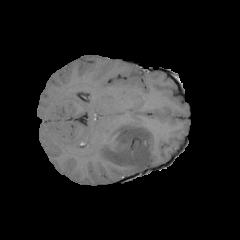glioma: (97, 109, 154, 172)
